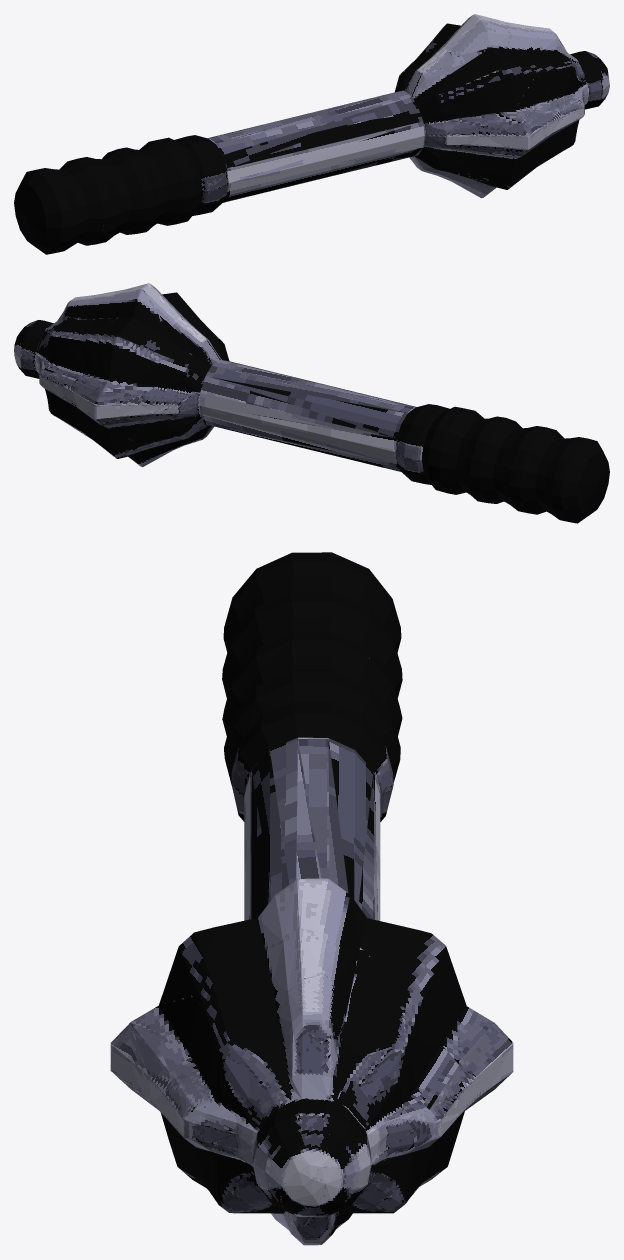
The picture shows the model from 3 angles, top to bottom: view 1: azimuth 30°, elevation 25°; view 2: azimuth 150°, elevation 25°; view 3: azimuth 270°, elevation 25°; orthographic projection. The views are drawn at different scales.
Visible parts, largest first — view 1: OBJ008; view 2: OBJ008; view 3: OBJ008.
Part boxes in pixels (x1,y1,x2,y2): OBJ008: (14, 14, 609, 254); OBJ008: (14, 283, 609, 523); OBJ008: (110, 552, 513, 1245).
Bounding box in the file's own units: 0.4303 × 0.1261 × 0.1293.
1 material, 1 textured.
